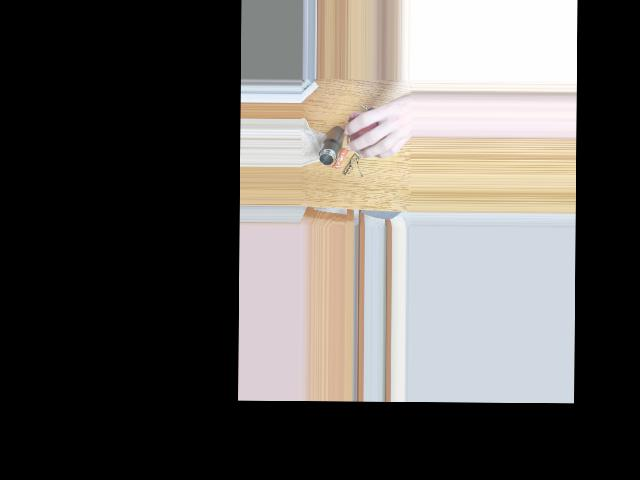onion: (353, 111, 386, 156)
